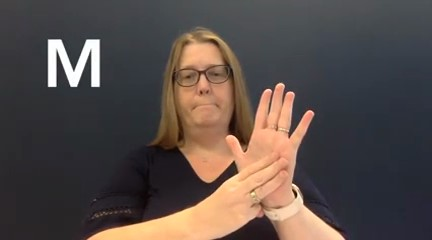M: (171, 81, 316, 235)
